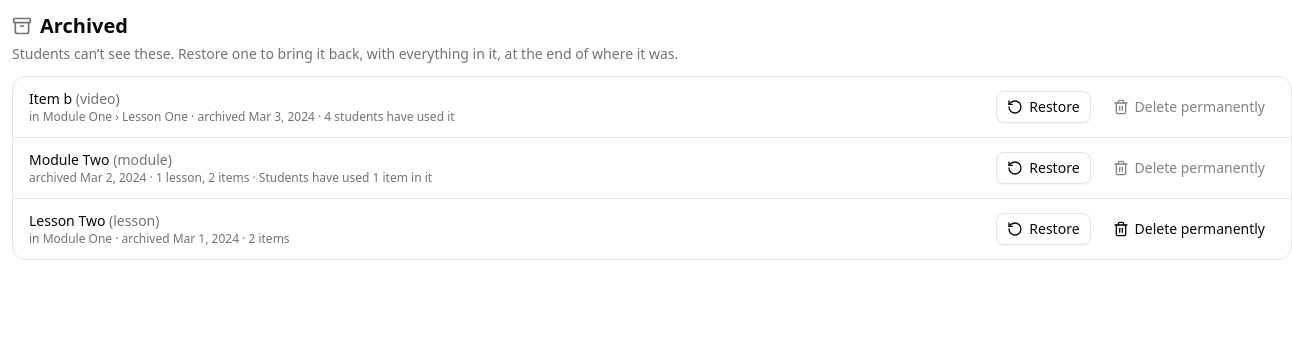
ArchivedSection › shows a refused restore under its row
Click the button with aria-label "Restore lesson Lesson Two": (1043, 229) x1=996 y1=213 x2=1090 y2=245
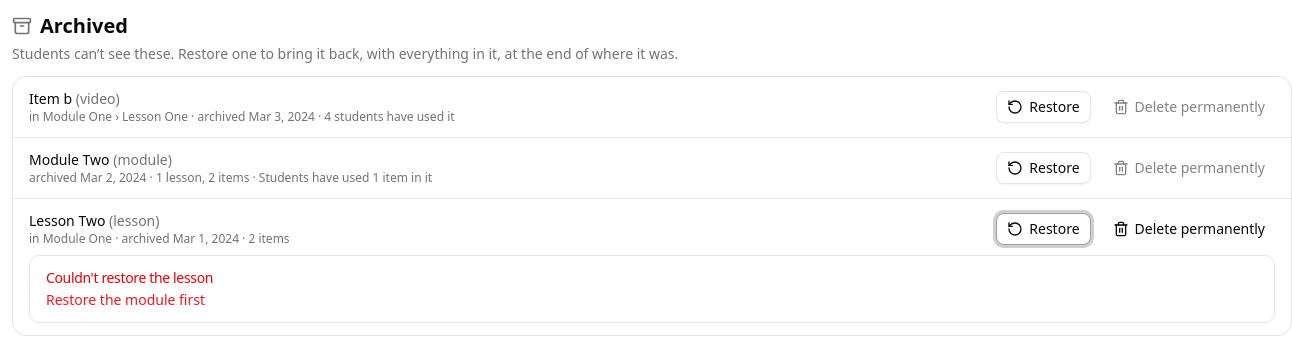
Result: the list item that starts with "Lesson Two" shows "Couldn't restore the lesson" at x1=46 y1=268 x2=213 y2=287
Result: the list item that starts with "Lesson Two" shows "Restore the module first" at x1=46 y1=290 x2=205 y2=309
